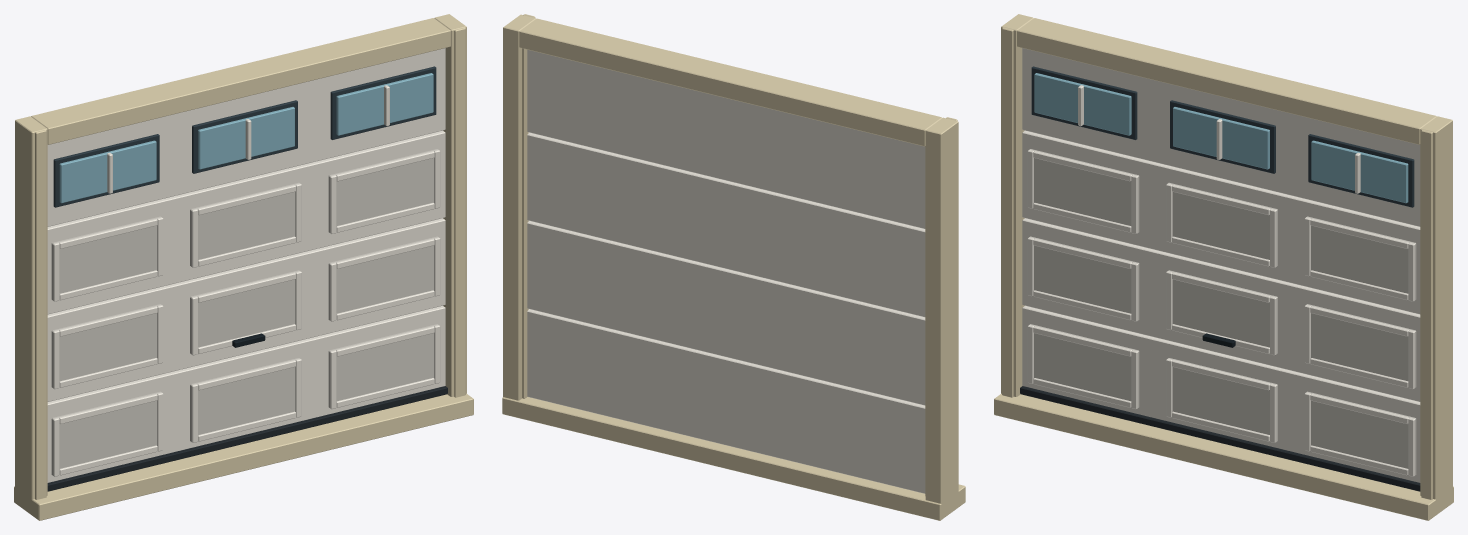
Rendered from b12_sectional_residential_garage.glb.
3 renders of one model, left to right at view 1: azimuth 30°, elevation 25°; view 2: azimuth 150°, elevation 25°; view 3: azimuth 330°, elevation 25°, orthographic.
Visible parts, largest first — view 1: b12_sectional_residential_garage; view 2: b12_sectional_residential_garage; view 3: b12_sectional_residential_garage.
Boxes of the visible parts, bbox=[...] form: b12_sectional_residential_garage: bbox=[14, 14, 473, 520]; b12_sectional_residential_garage: bbox=[502, 14, 965, 520]; b12_sectional_residential_garage: bbox=[994, 14, 1453, 520].
Bounding box in the file's own units: 2.86 × 2.41 × 0.29.
